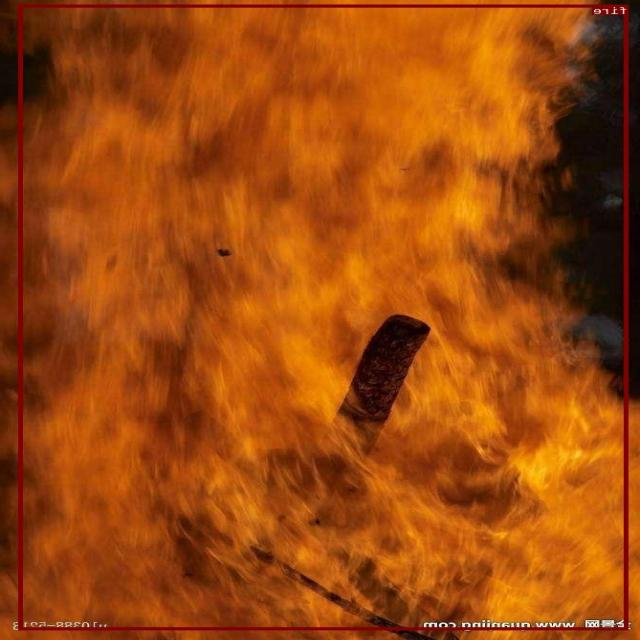fire: (19, 4, 629, 629)
